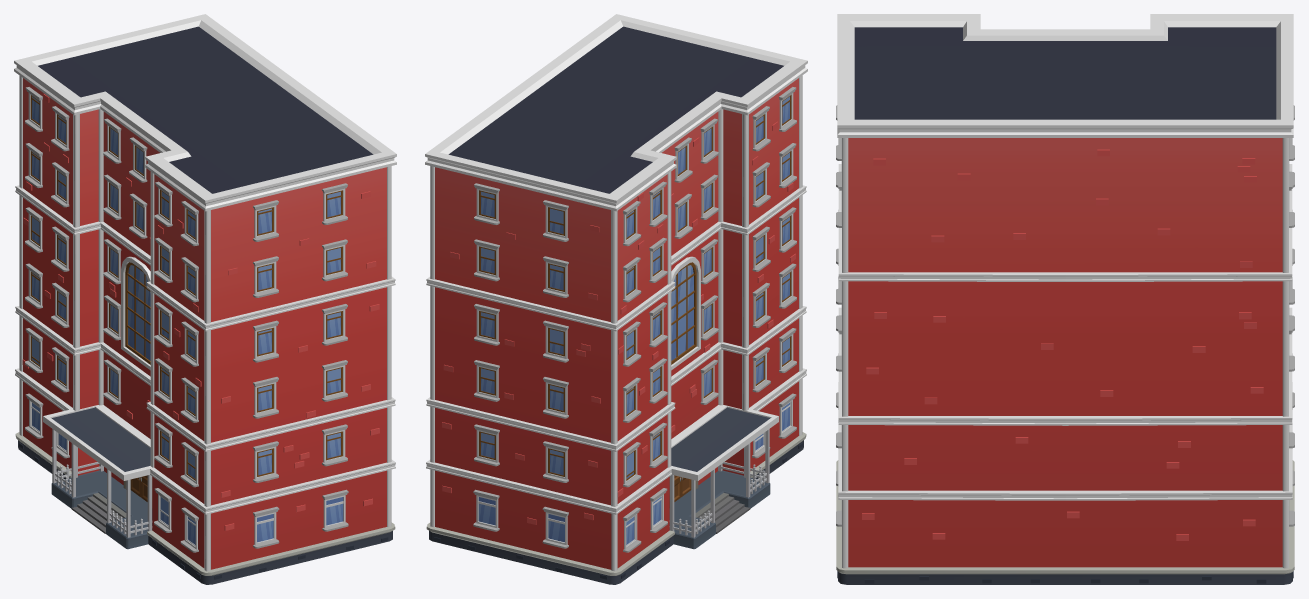
Rendered from Building_5_4_C.fbx.
3 renders of one model, left to right at view 1: azimuth 30°, elevation 25°; view 2: azimuth 150°, elevation 25°; view 3: azimuth 270°, elevation 25°, orthographic. The views are drawn at different scales.
Parts seen in each view (by area): view 1: Building_5_4_C; view 2: Building_5_4_C; view 3: Building_5_4_C.
Boxes of the visible parts, x1,y1,x2,y2 form: Building_5_4_C: [14, 14, 396, 584]; Building_5_4_C: [425, 14, 807, 584]; Building_5_4_C: [836, 14, 1294, 584].
Size of the model in its own units: 1251 by 2109 by 1908.
